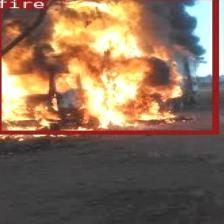fire: (0, 0, 216, 133)
